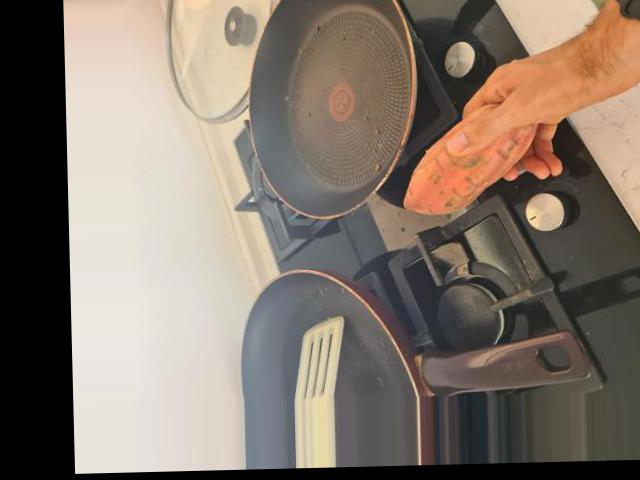sweet_potato: (401, 106, 541, 216)
